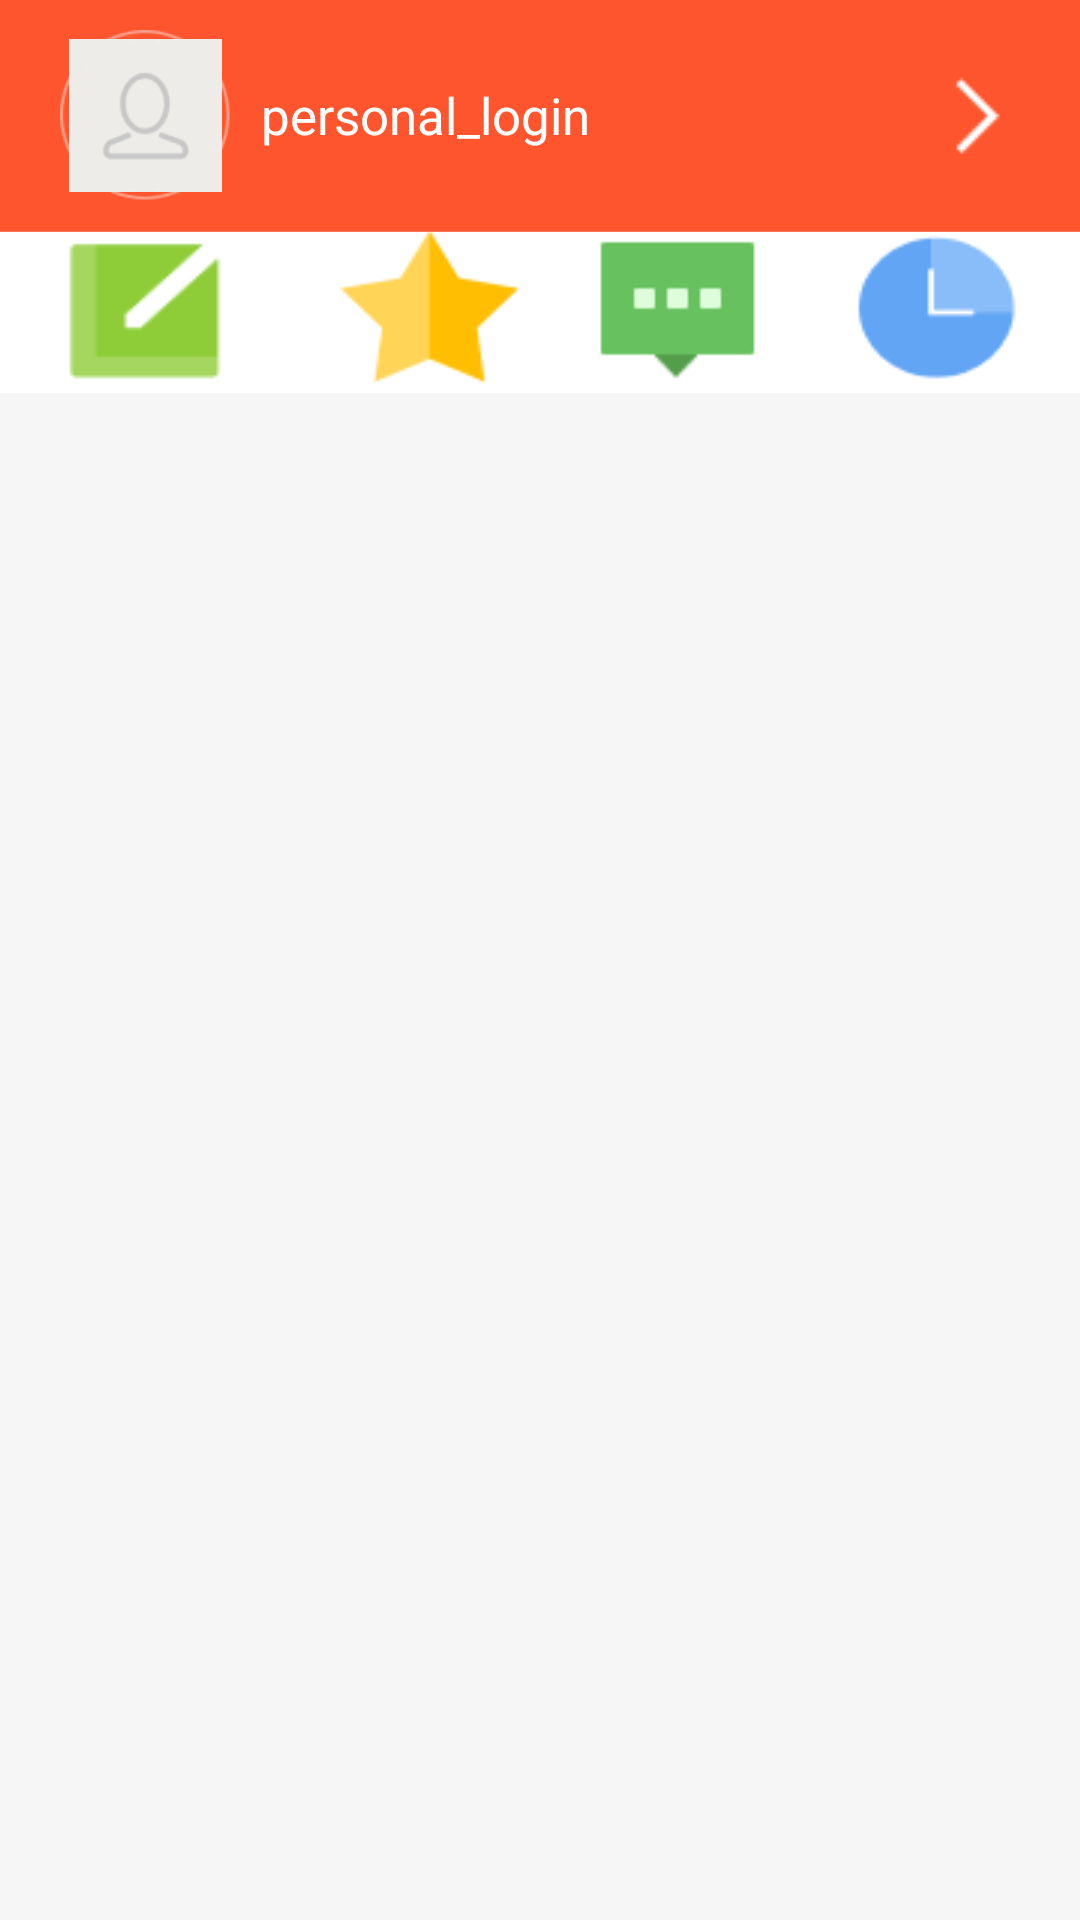

Icons on this 1080*1920 Android screen, each with the point to tap as (x=x, y=y):
personal collect: (x=430, y=307)
personal head: (x=145, y=115)
personal history: (x=937, y=308)
personal im: (x=677, y=309)
personal public: (x=145, y=311)
personal userinfo go: (x=978, y=115)
